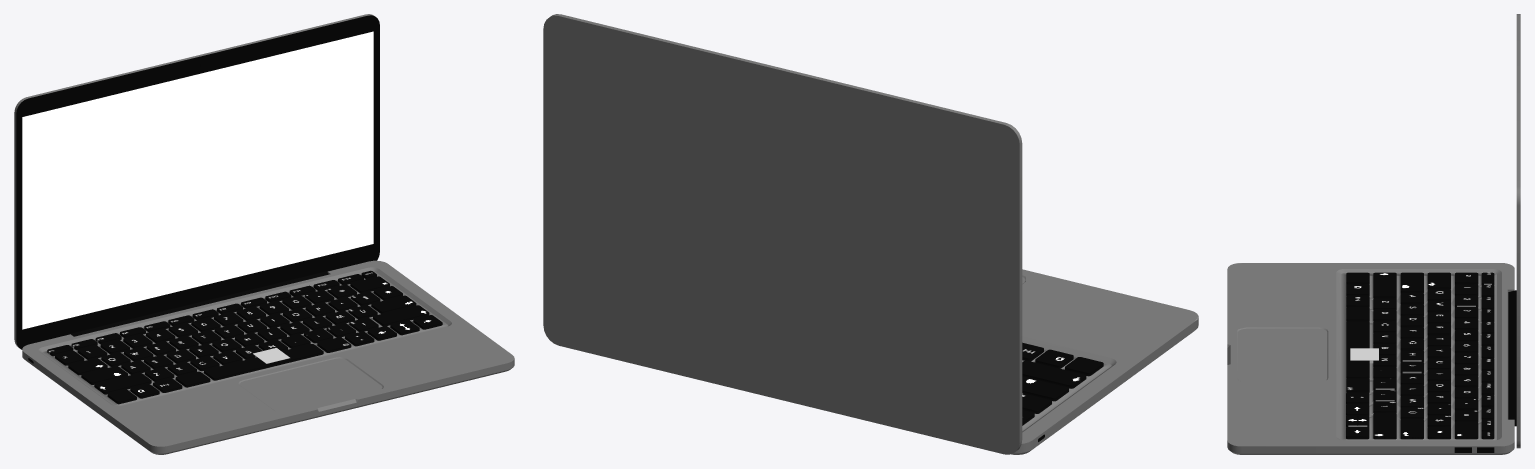
Rendered from laptop.glb.
The picture shows the model from 3 angles, left to right: view 1: azimuth 30°, elevation 25°; view 2: azimuth 150°, elevation 25°; view 3: azimuth 270°, elevation 25°; orthographic projection. The views are drawn at different scales.
Visible parts, largest first — view 1: Screen_Texture, Frame, Screen; view 2: Screen, Frame; view 3: Frame, Screen, Cube.
Part boxes in pixels (x1=…): Screen_Texture: x1=22, y1=31, x2=373, y2=329; Frame: x1=22, y1=260, x2=514, y2=454; Screen: x1=14, y1=14, x2=379, y2=349; Screen: x1=543, y1=14, x2=1022, y2=454; Frame: x1=1011, y1=269, x2=1198, y2=454; Frame: x1=1227, y1=263, x2=1514, y2=454; Screen: x1=1508, y1=14, x2=1520, y2=448; Cube: x1=1350, y1=348, x2=1378, y2=363.
Bounding box in the file's own units: 30.4 × 21.56 × 20.5.
3 materials, 2 textured.
